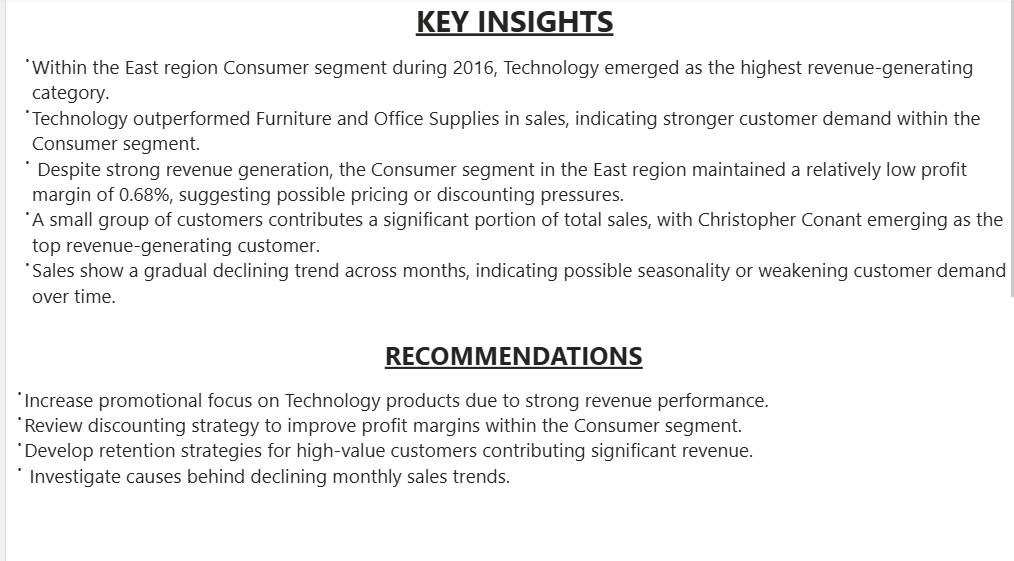

The page's visual inventory and layout, read from the dashboard file:
{"tool":"powerbi","page":{"name":"Insights And Recommendations","canvas":[1280,720],"ordinal":1},"visuals":[{"type":"textbox","box":[9.4,0,1269.9,408.2],"z":0},{"type":"textbox","box":[10,570,280,150],"z":2},{"type":"textbox","box":[0,425.2,1279.4,219.2],"z":3}]}

Visuals, with their boxes in screenshot pixels (x1, y1, x2, y2), scaled from the page's 1280x720 canvas onto the 1014x561 screenshot:
textbox: pyautogui.locateOnScreen(7, 0, 1013, 318)
textbox: pyautogui.locateOnScreen(8, 444, 230, 560)
textbox: pyautogui.locateOnScreen(0, 331, 1013, 502)
